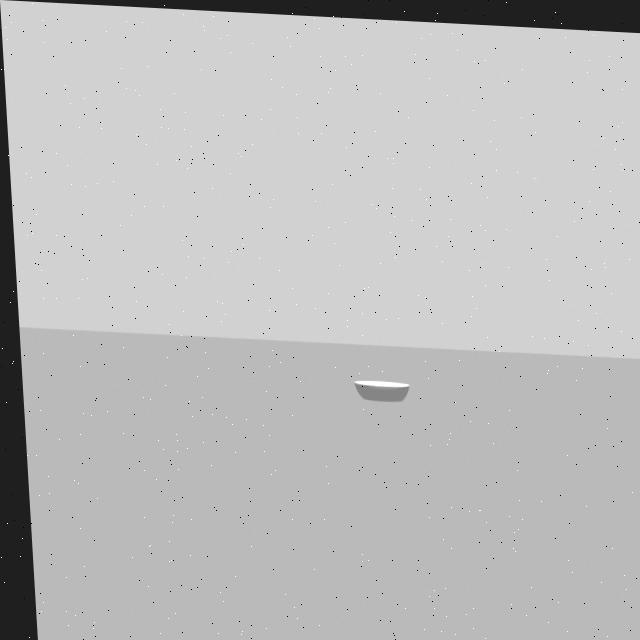bowl: (344, 362, 412, 414)
